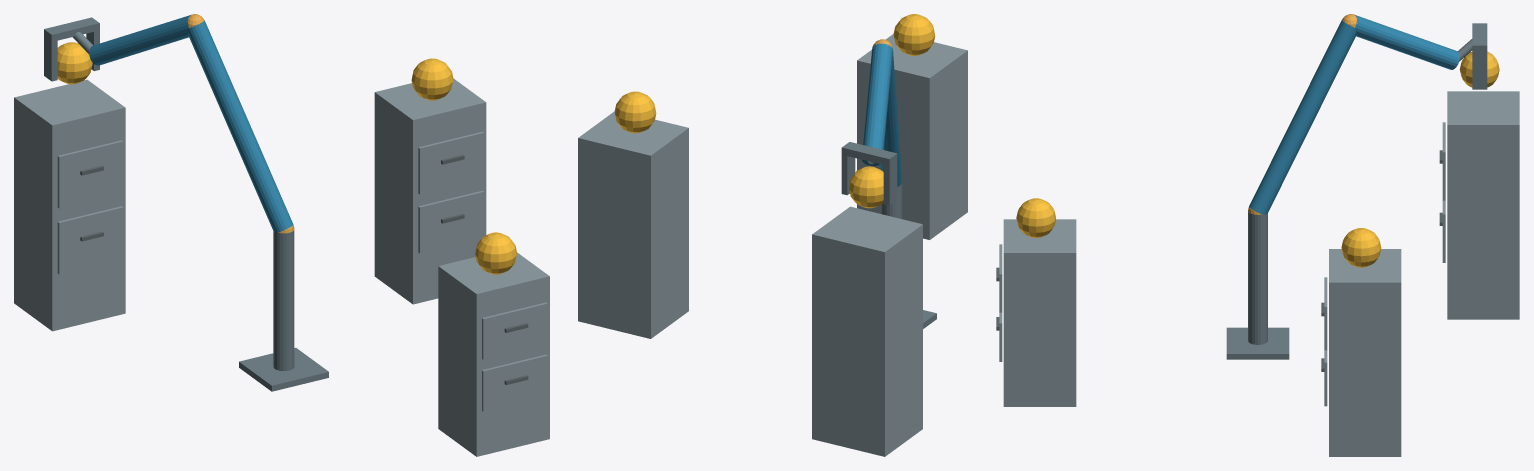
3 views of the same model, side by side, from view 1: azimuth 30°, elevation 25°; view 2: azimuth 150°, elevation 25°; view 3: azimuth 270°, elevation 25° (orthographic). The views are drawn at different scales.
Parts seen in each view (by area): view 1: cabinet_3 body, cabinet_2 body, cabinet_1 body, moving link 1, cabinet_3 drawer front.001, cabinet_3 drawer front, cabinet_2 drawer front.001, cabinet_2 drawer front, fixed post, cabinet_1 drawer front.001, cabinet_1 drawer front, moving link 2 (+6 smaller); view 2: cabinet_3 body, cabinet_2 body, cabinet_1 body, moving link 2, released ball_2, released ball_1, ball ball_3, moving link 1, gripper bridge, gripper finger -1, gripper finger 1, fixed post; view 3: cabinet_3 body, cabinet_2 body, cabinet_1 body, moving link 1, fixed post, moving link 2, pedestal, released ball_2, released ball_1, ball ball_3, gripper finger 1.
Part boxes in pixels (bbox=[...]): cabinet_3 body: bbox=[14, 79, 125, 331]; cabinet_2 body: bbox=[374, 78, 486, 304]; cabinet_1 body: bbox=[438, 252, 549, 456]; moving link 1: bbox=[188, 20, 293, 232]; cabinet_3 drawer front.001: bbox=[57, 140, 123, 208]; cabinet_3 drawer front: bbox=[57, 206, 123, 274]; cabinet_2 drawer front.001: bbox=[418, 131, 484, 194]; cabinet_2 drawer front: bbox=[418, 190, 484, 253]; fixed post: bbox=[273, 230, 294, 371]; cabinet_1 drawer front.001: bbox=[482, 302, 547, 359]; cabinet_1 drawer front: bbox=[482, 354, 547, 411]; moving link 2: bbox=[89, 15, 190, 65]; cabinet_3 body: bbox=[812, 206, 922, 456]; cabinet_2 body: bbox=[578, 111, 688, 338]; cabinet_1 body: bbox=[857, 34, 967, 239]; moving link 2: bbox=[862, 43, 892, 165]; released ball_2: bbox=[614, 91, 656, 133]; released ball_1: bbox=[893, 14, 935, 55]; ball ball_3: bbox=[848, 166, 883, 208]; moving link 1: bbox=[880, 47, 902, 186]; gripper bridge: bbox=[841, 142, 897, 166]; gripper finger -1: bbox=[883, 161, 897, 205]; gripper finger 1: bbox=[841, 155, 855, 195]; fixed post: bbox=[881, 182, 902, 218]; cabinet_3 body: bbox=[1447, 91, 1519, 319]; cabinet_2 body: bbox=[1329, 249, 1401, 456]; cabinet_1 body: bbox=[1003, 219, 1076, 406]; moving link 1: bbox=[1249, 20, 1356, 214]; fixed post: bbox=[1248, 211, 1267, 344]; moving link 2: bbox=[1354, 14, 1459, 69]; pedestal: bbox=[1226, 327, 1289, 359]; released ball_2: bbox=[1341, 228, 1381, 267]; released ball_1: bbox=[1016, 198, 1055, 237]; ball ball_3: bbox=[1459, 51, 1499, 87]; gripper finger 1: bbox=[1472, 52, 1487, 89].
Bounding box in the file's own units: 1.62 × 1.38 × 2.1.
